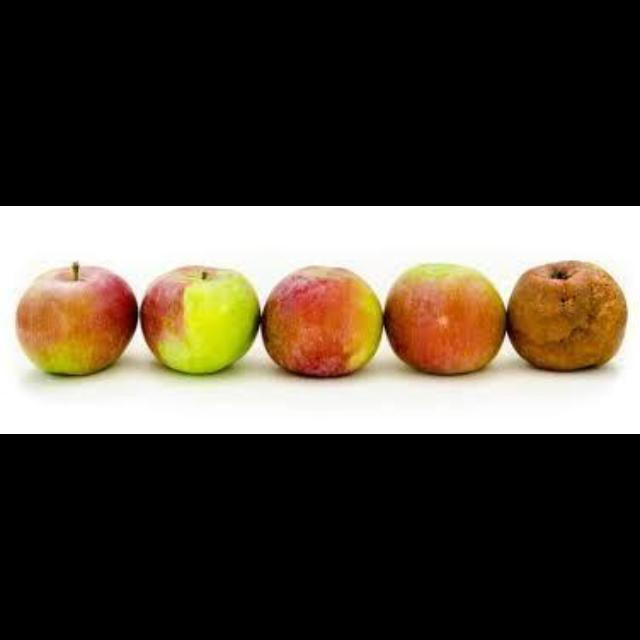apple: (15, 262, 136, 373), (260, 266, 381, 376), (383, 264, 502, 373), (140, 266, 259, 373)
rotten: (507, 260, 626, 369)
